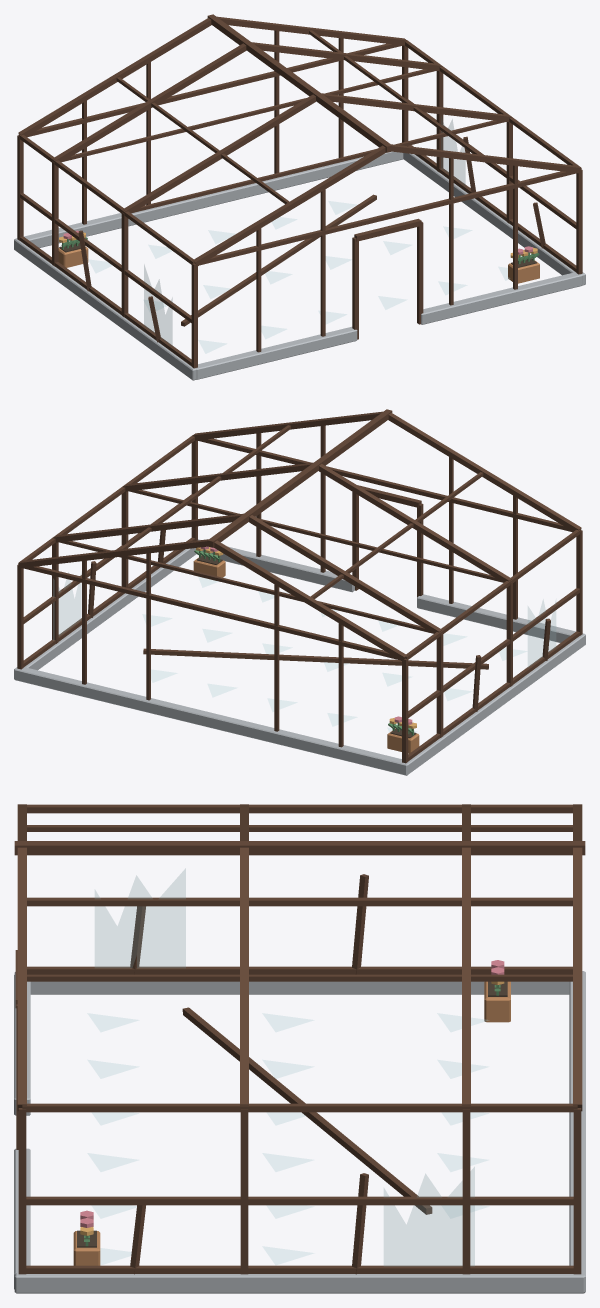
Rendered from greenhouse_ruined.glb.
3 renders of one model, top to bottom at view 1: azimuth 30°, elevation 25°; view 2: azimuth 150°, elevation 25°; view 3: azimuth 270°, elevation 25°, orthographic. The views are drawn at different scales.
Parts seen in each view (by area): view 1: greenhouse_ruined_建筑共用调色板.028, greenhouse_ruined_glass_pale_blue; view 2: greenhouse_ruined_建筑共用调色板.028, greenhouse_ruined_glass_pale_blue; view 3: greenhouse_ruined_建筑共用调色板.028, greenhouse_ruined_glass_pale_blue.
Boxes of the visible parts, x1,y1,x2,y2 form: greenhouse_ruined_建筑共用调色板.028: (14,14,585,380); greenhouse_ruined_glass_pale_blue: (89,116,509,353); greenhouse_ruined_建筑共用调色板.028: (14,409,585,775); greenhouse_ruined_glass_pale_blue: (53,572,555,732); greenhouse_ruined_建筑共用调色板.028: (14,804,585,1293); greenhouse_ruined_glass_pale_blue: (87,868,488,1266).
Bounding box in the file's own units: 9.63 × 4.32 × 7.52.
2 materials, 1 textured.
